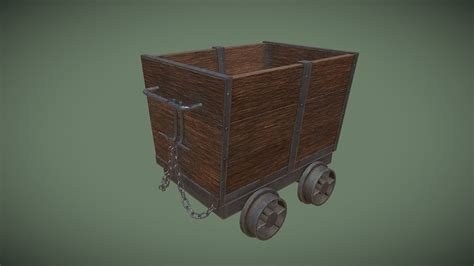Carts: (139, 39, 360, 242)
